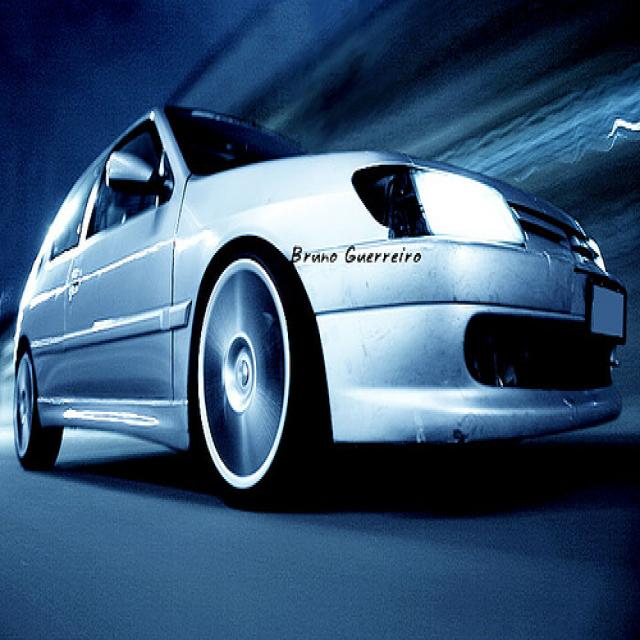Car: (3, 95, 631, 501)
